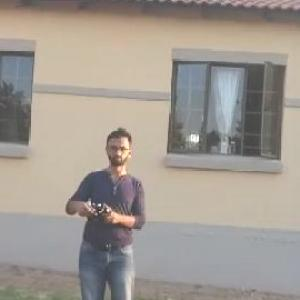follow: (58, 119, 149, 299)
